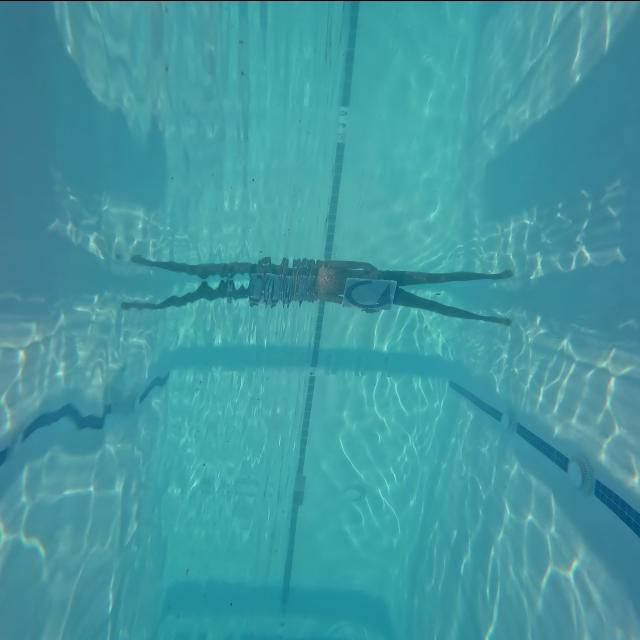blue_side: (341, 276, 399, 308)
